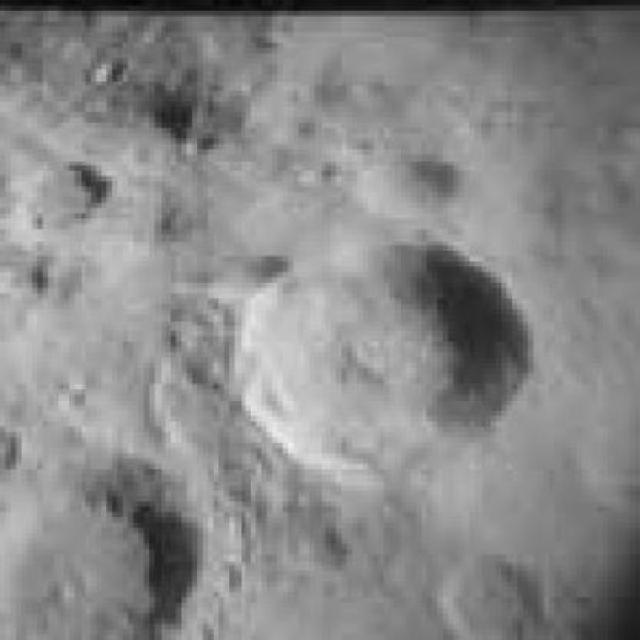crater: (228, 243, 530, 474), (0, 464, 209, 638), (445, 556, 552, 638)
